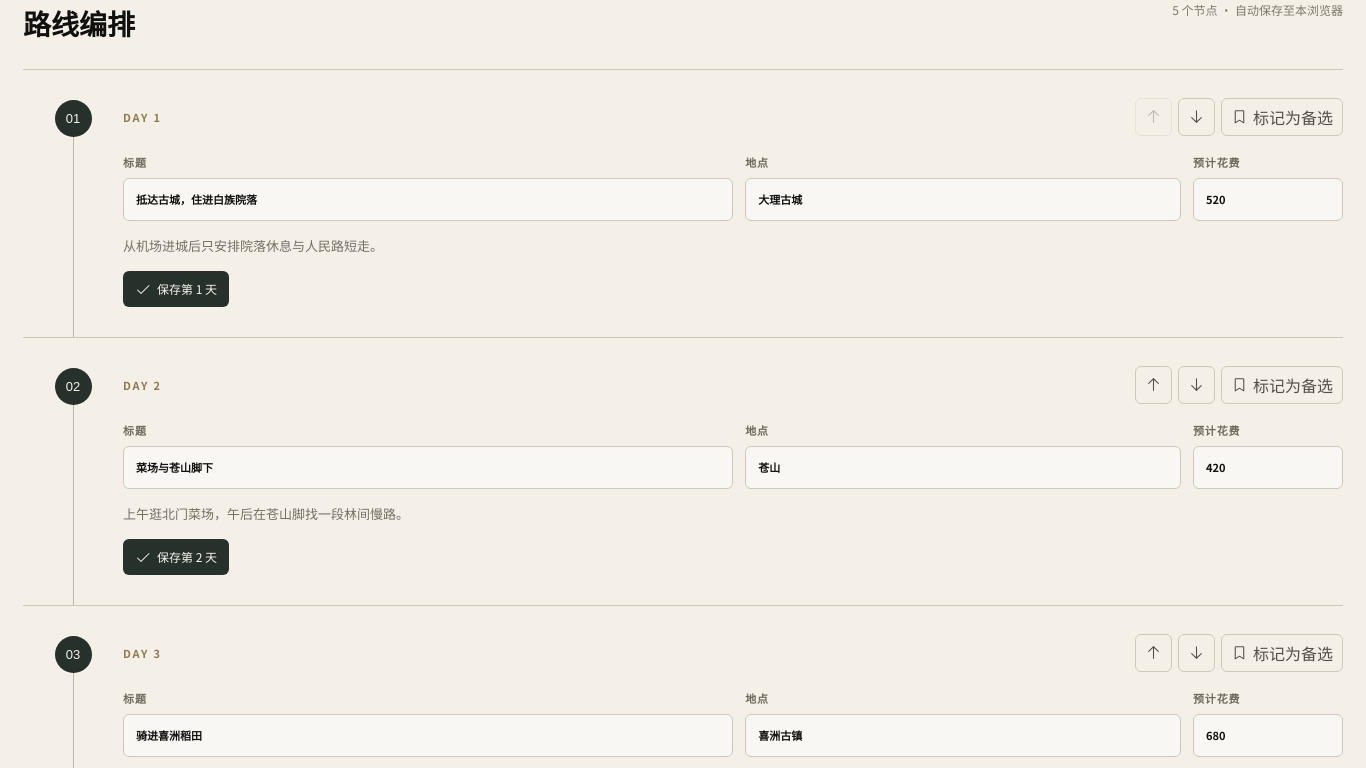
Test: TripWorkbench › reorders nodes accessibly and toggles an alternative
The width and height of the screenshot is (1366, 768).
(page scrolled)
Click the button named "上移第 2 天" at (1154,385), box [1135,366,1172,404]
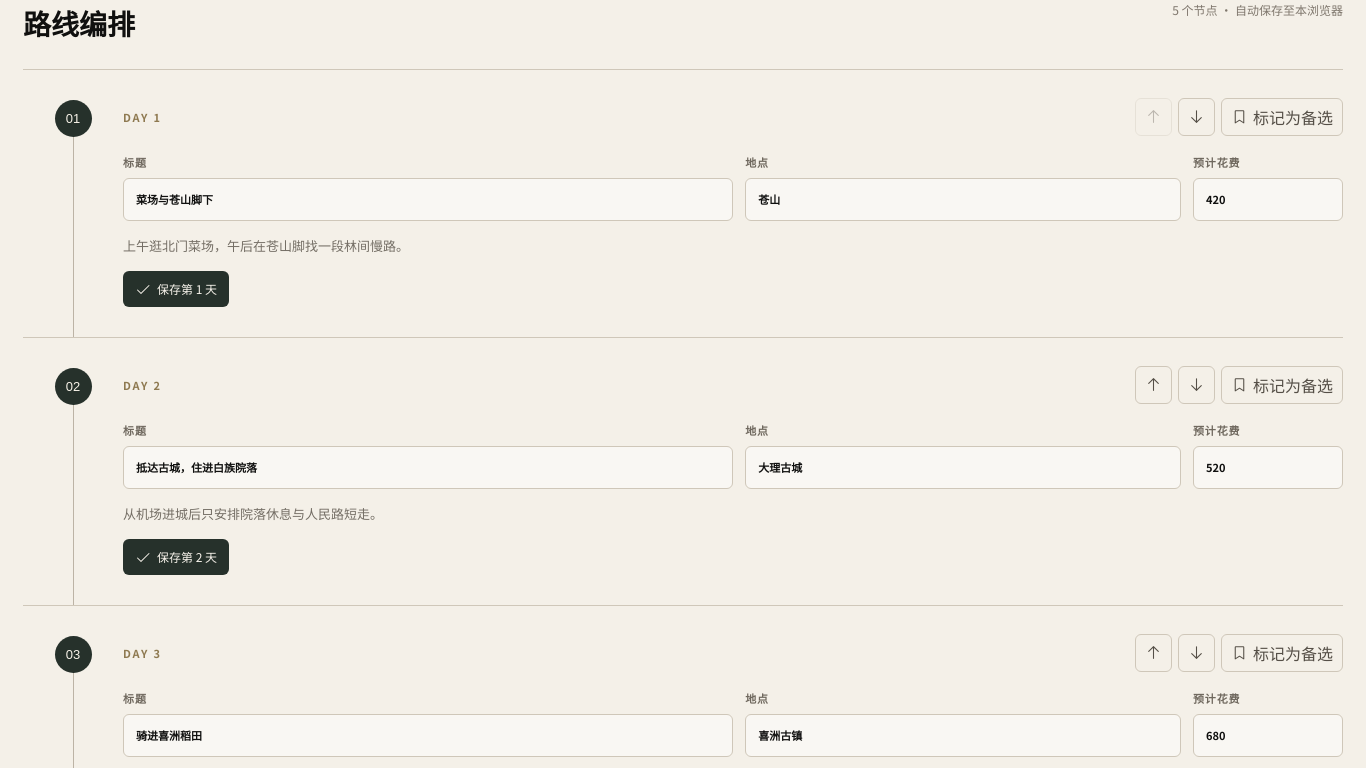
Expected: the 1st field showing "菜场与苍山脚下" is shown, [123,178,733,221]
Click the 1st button "标记为备选" at (1282,117), box [1221,98,1343,136]
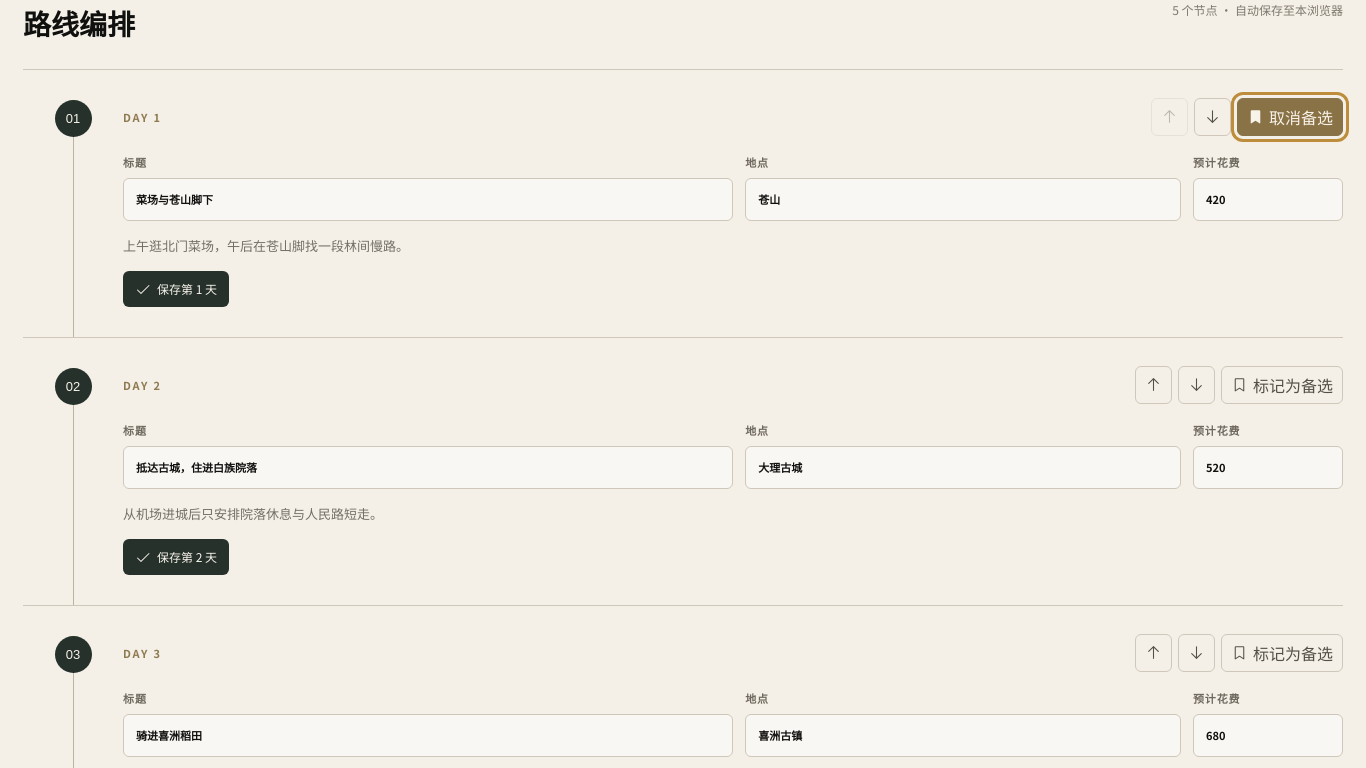
Now the button "取消备选" is shown, box [1237,98,1343,136]
